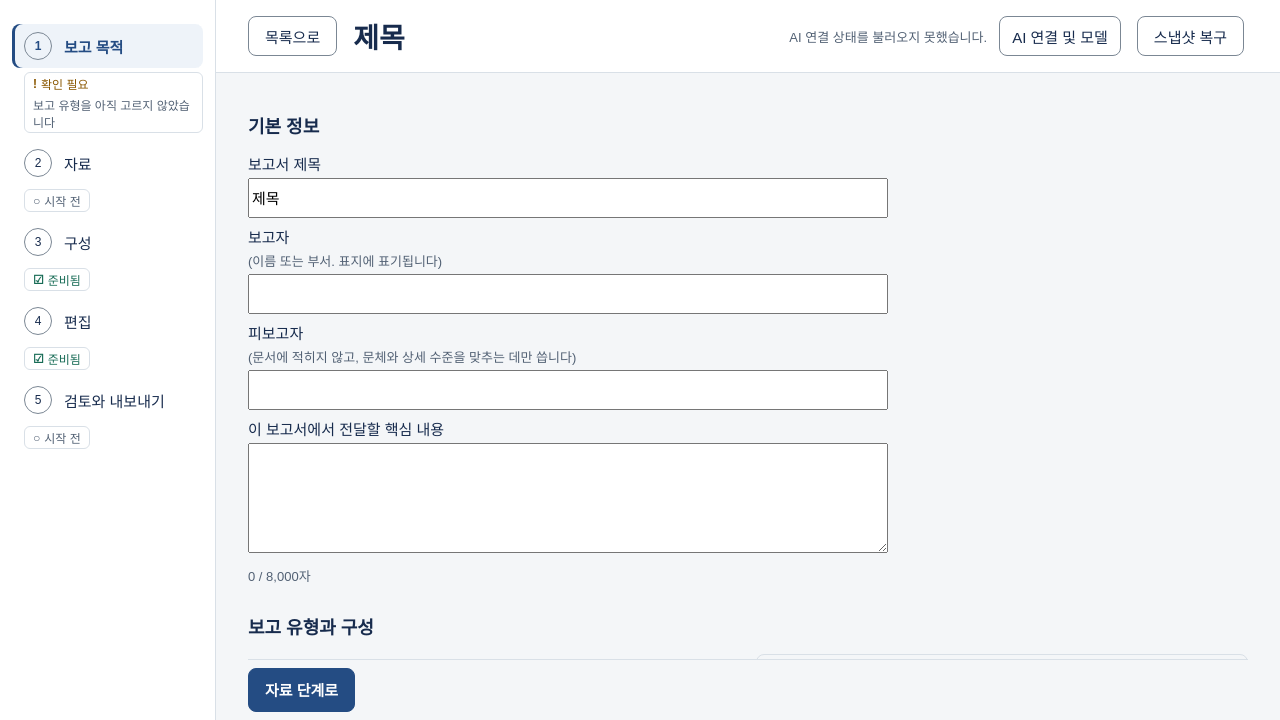
Scenario: 보고 목적 단계 자동 저장이 412면 배너가 뜨고, 다시 읽기는 미저장 입력을 보존한 뒤 최신 덱으로 다시 마운트한다 (A5, B9)
Step 1. Clear the field labelled "보고서 제목" → (568, 198), box left=248, top=178, right=888, bottom=218
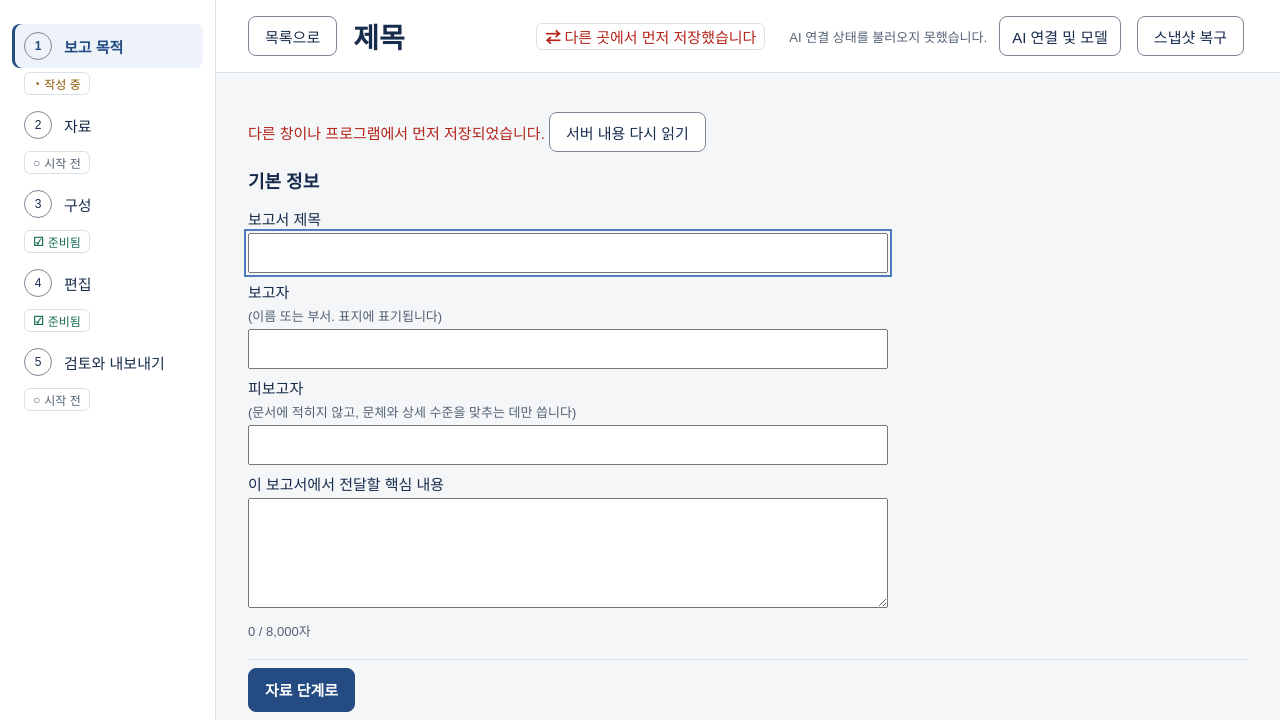
Step 2. Type "새 제목" into the field labelled "보고서 제목" → (568, 253), box left=248, top=233, right=888, bottom=273
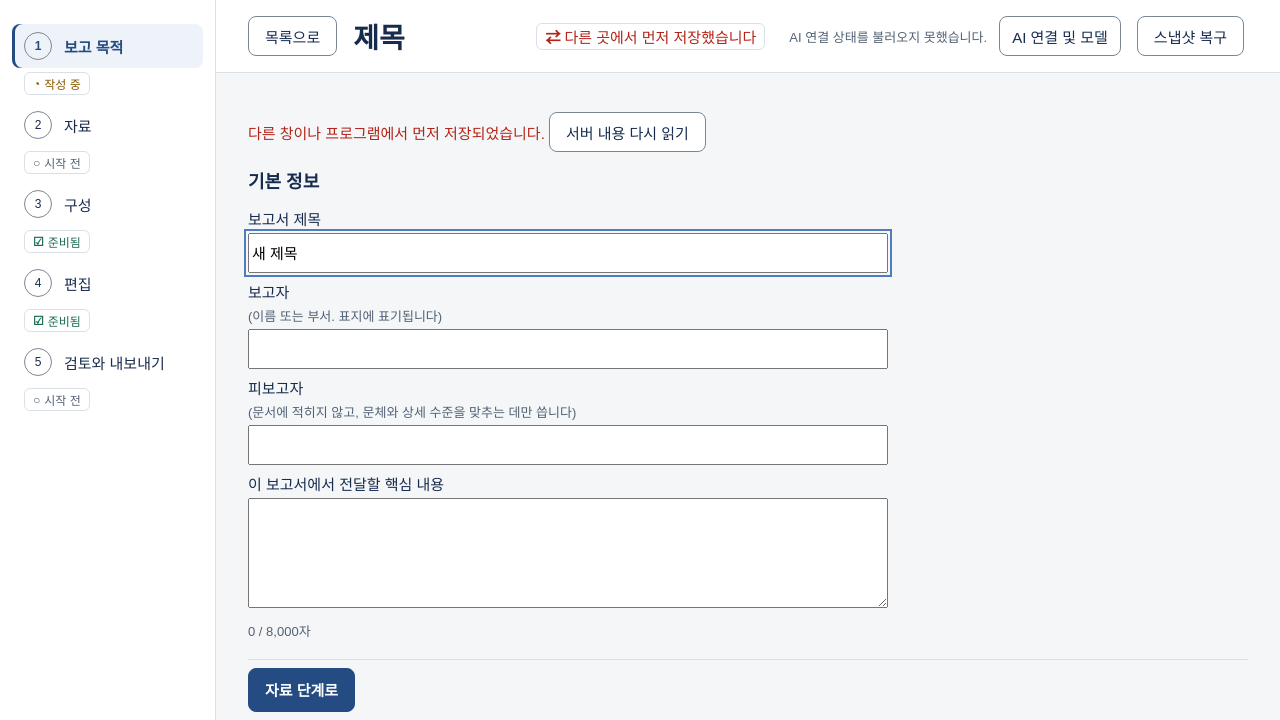
Expected: the text "다른 창이나 프로그램에서 먼저 저장되었습니다." is shown, left=248, top=124, right=545, bottom=142
Step 3. Click the button "서버 내용 다시 읽기" → (627, 132), box left=549, top=112, right=706, bottom=152
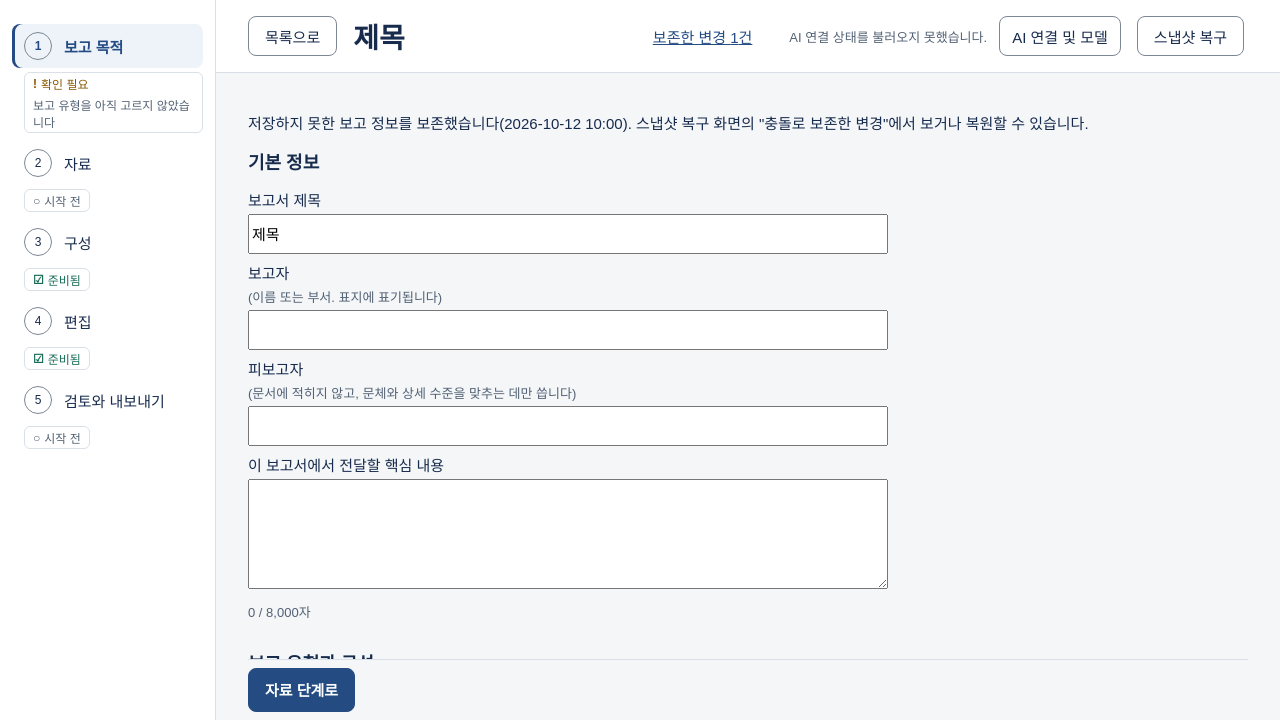
Expected: the text "저장하지 못한 보고 정보를 보존했습니다" is shown, left=248, top=115, right=1089, bottom=132
Expected: the button "보존한 변경 1건" is shown, left=644, top=16, right=761, bottom=56
Expected: the field labelled "보고서 제목" holds "제목", left=248, top=214, right=888, bottom=254
